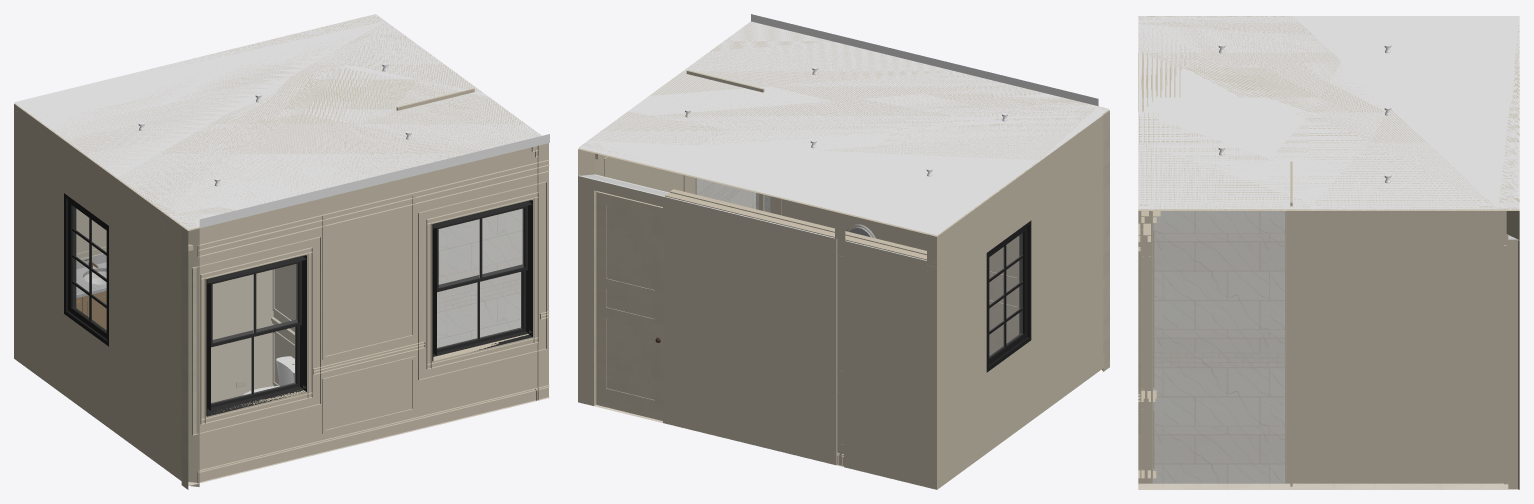
The model's file is primary-bath-a7103fa3f9b2.glb.
The picture shows the model from 3 angles, left to right: view 1: azimuth 30°, elevation 25°; view 2: azimuth 150°, elevation 25°; view 3: azimuth 270°, elevation 25°; orthographic projection. The views are drawn at different scales.
Visible parts, largest first — view 1: primary-bath-9d91b47435c6fb33, primary-bath-b0ade14315e4f1c3, primary-bath-c51ecd664a3b22a3, primary-bath-e8793759323e04f0, primary-bath-60f0db96f832035a, primary-bath-b5cb73c07919def8, primary-bath-10eba734bfa580f9, primary-bath-20932135983111ad, primary-bath-f16673f3b541985d, primary-bath-ef64d5096d209f6d, primary-bath-b5339e4b2b15762b, primary-bath-62353aa10fc57f23 (+15 smaller); view 2: primary-bath-9ecc0d558be1c706, primary-bath-9d91b47435c6fb33, primary-bath-c51ecd664a3b22a3, primary-bath-e8793759323e04f0, primary-bath-18f70a4a9eda5dac, primary-bath-20932135983111ad, primary-bath-25ea03c5717987c5, primary-bath-e48b5483df8cacdb, primary-bath-fc6585fecfaf7ec3, primary-bath-62353aa10fc57f23, primary-bath-1a6c50e4c3accb7b, primary-bath-b88ac105ef7c3bdb (+4 smaller); view 3: primary-bath-9d91b47435c6fb33, primary-bath-fc6585fecfaf7ec3, primary-bath-3d8660a29b1e398e, primary-bath-e8793759323e04f0, primary-bath-2bc0761cc32b9613, primary-bath-c791a0f218fead78, primary-bath-9ecc0d558be1c706, primary-bath-343da8f45fc39332, primary-bath-b3921aced1f99593, primary-bath-b3dc771ed6f89851, primary-bath-38b306e83be12a4b, primary-bath-2524bad2f0b4651d (+6 smaller).
Boxes of the visible parts, box(x1,y1,x2,y2) form: primary-bath-9d91b47435c6fb33: box(14, 14, 549, 230); primary-bath-b0ade14315e4f1c3: box(199, 143, 548, 479); primary-bath-c51ecd664a3b22a3: box(14, 103, 181, 480); primary-bath-e8793759323e04f0: box(61, 16, 549, 229); primary-bath-60f0db96f832035a: box(206, 255, 306, 416); primary-bath-b5cb73c07919def8: box(432, 200, 532, 360); primary-bath-10eba734bfa580f9: box(215, 269, 273, 401); primary-bath-20932135983111ad: box(64, 193, 108, 346); primary-bath-f16673f3b541985d: box(437, 208, 522, 297); primary-bath-ef64d5096d209f6d: box(197, 385, 549, 483); primary-bath-b5339e4b2b15762b: box(197, 159, 549, 257); primary-bath-62353aa10fc57f23: box(181, 226, 199, 489); primary-bath-9ecc0d558be1c706: box(578, 174, 935, 489); primary-bath-9d91b47435c6fb33: box(578, 21, 1109, 236); primary-bath-c51ecd664a3b22a3: box(927, 115, 1103, 489); primary-bath-e8793759323e04f0: box(581, 14, 1104, 170); primary-bath-18f70a4a9eda5dac: box(596, 191, 662, 420); primary-bath-20932135983111ad: box(986, 220, 1031, 372); primary-bath-25ea03c5717987c5: box(989, 235, 1019, 355); primary-bath-e48b5483df8cacdb: box(835, 212, 845, 467); primary-bath-fc6585fecfaf7ec3: box(578, 149, 693, 193); primary-bath-62353aa10fc57f23: box(1102, 110, 1109, 371); primary-bath-1a6c50e4c3accb7b: box(770, 196, 892, 242); primary-bath-b88ac105ef7c3bdb: box(592, 188, 664, 423); primary-bath-9d91b47435c6fb33: box(1138, 16, 1519, 210); primary-bath-fc6585fecfaf7ec3: box(1292, 209, 1519, 489); primary-bath-3d8660a29b1e398e: box(1152, 211, 1284, 351); primary-bath-e8793759323e04f0: box(1138, 16, 1519, 209); primary-bath-2bc0761cc32b9613: box(1152, 366, 1284, 483); primary-bath-c791a0f218fead78: box(1138, 209, 1290, 483); primary-bath-9ecc0d558be1c706: box(1506, 234, 1518, 488); primary-bath-343da8f45fc39332: box(1296, 470, 1498, 483); primary-bath-b3921aced1f99593: box(1138, 483, 1518, 489); primary-bath-b3dc771ed6f89851: box(1308, 224, 1486, 382); primary-bath-38b306e83be12a4b: box(1152, 351, 1284, 366); primary-bath-2524bad2f0b4651d: box(1308, 403, 1486, 462).
Bounding box in the file's own units: 4.3 × 3.04 × 3.59.
29 materials, 8 textured.
